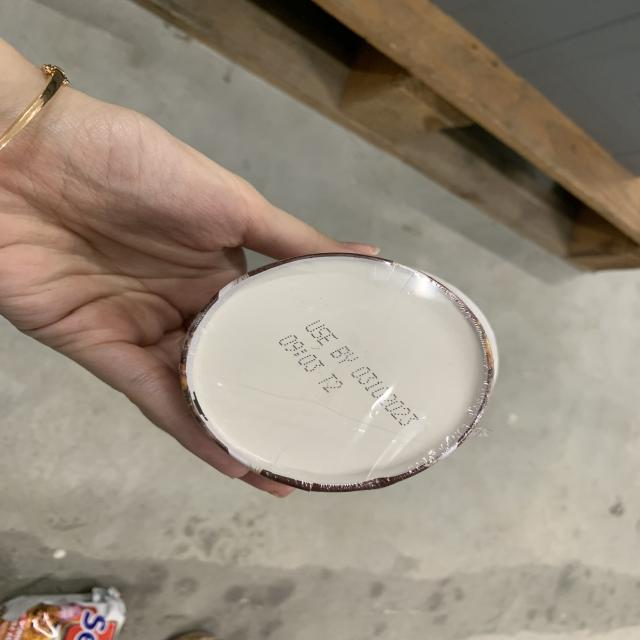object_name: (182, 259, 489, 489)
